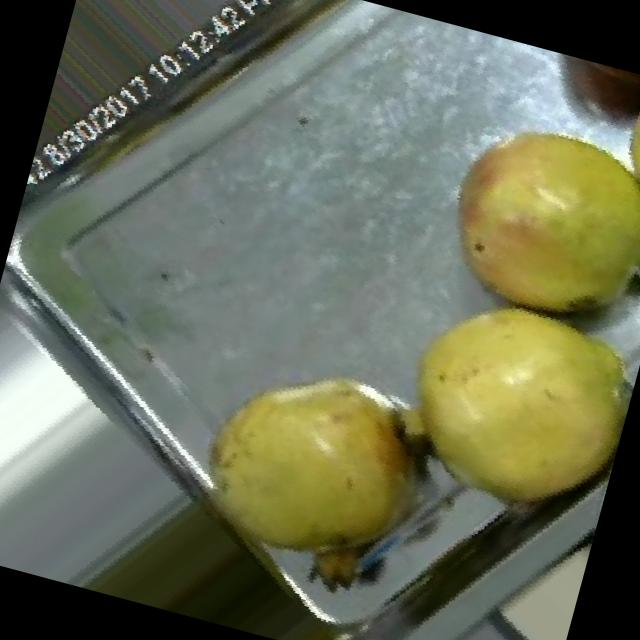fruit: (140, 305, 470, 640), (345, 251, 640, 561), (391, 74, 640, 368)
